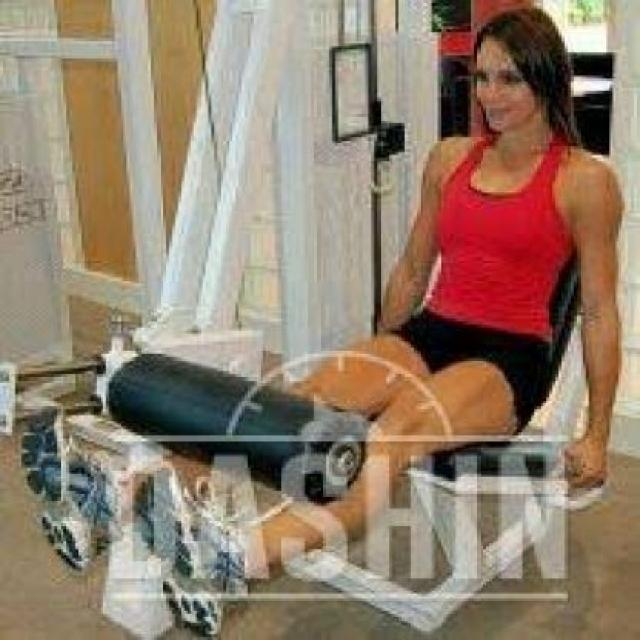leg extension: (6, 3, 640, 640)
